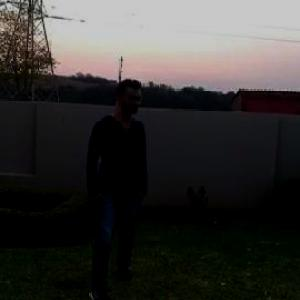follow: (80, 70, 147, 299)
